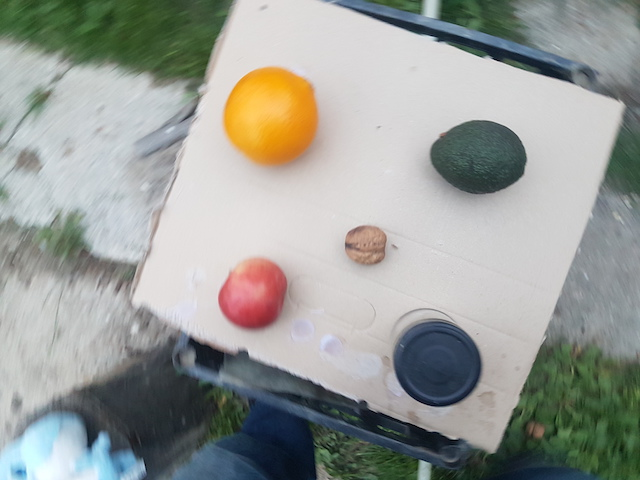apple: (219, 254, 288, 330)
avocado: (427, 119, 528, 197)
nut: (340, 222, 387, 263)
orange: (223, 66, 317, 164)
recipient: (390, 318, 482, 409)
